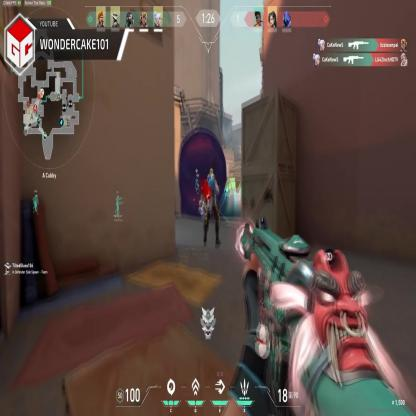enemy: (204, 167, 222, 254), (198, 196, 204, 218)
enemy_head: (209, 168, 214, 178), (201, 195, 203, 201)
